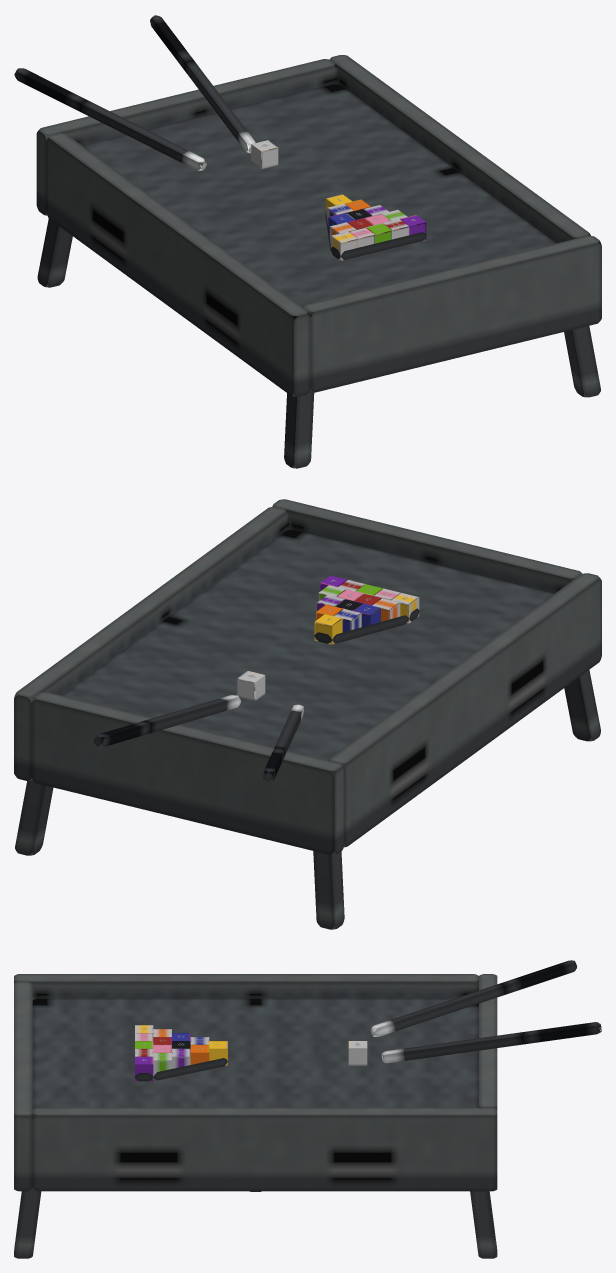
The model's file is pooltable.obj.
3 renders of one model, top to bottom at view 1: azimuth 30°, elevation 25°; view 2: azimuth 150°, elevation 25°; view 3: azimuth 270°, elevation 25°, orthographic. The views are drawn at different scales.
Parts seen in each view (by area): view 1: cuboid, cue2, cue1, trianglethingy, ball0; view 2: cuboid, cue1, cue2, trianglethingy, ball0; view 3: cuboid, cue1, cue2, trianglethingy, ball0.
Boxes of the visible parts, left/top/right/bottom form: cuboid: left=36, top=55, right=601, bottom=468; cue2: left=14, top=68, right=206, bottom=170; cue1: left=150, top=15, right=255, bottom=153; trianglethingy: left=325, top=209, right=426, bottom=259; ball0: left=251, top=140, right=278, bottom=169; cuboid: left=14, top=499, right=601, bottom=929; cue1: left=93, top=695, right=241, bottom=746; cue2: left=263, top=704, right=303, bottom=781; trianglethingy: left=314, top=598, right=419, bottom=643; ball0: left=237, top=671, right=265, bottom=700; cuboid: left=14, top=974, right=497, bottom=1258; cue1: left=381, top=1022, right=601, bottom=1063; cue2: left=370, top=960, right=577, bottom=1036; trianglethingy: left=135, top=1058, right=227, bottom=1081; ball0: left=348, top=1041, right=367, bottom=1065.
Bounding box in the file's own units: 2.25 × 1.28 × 3.95.
